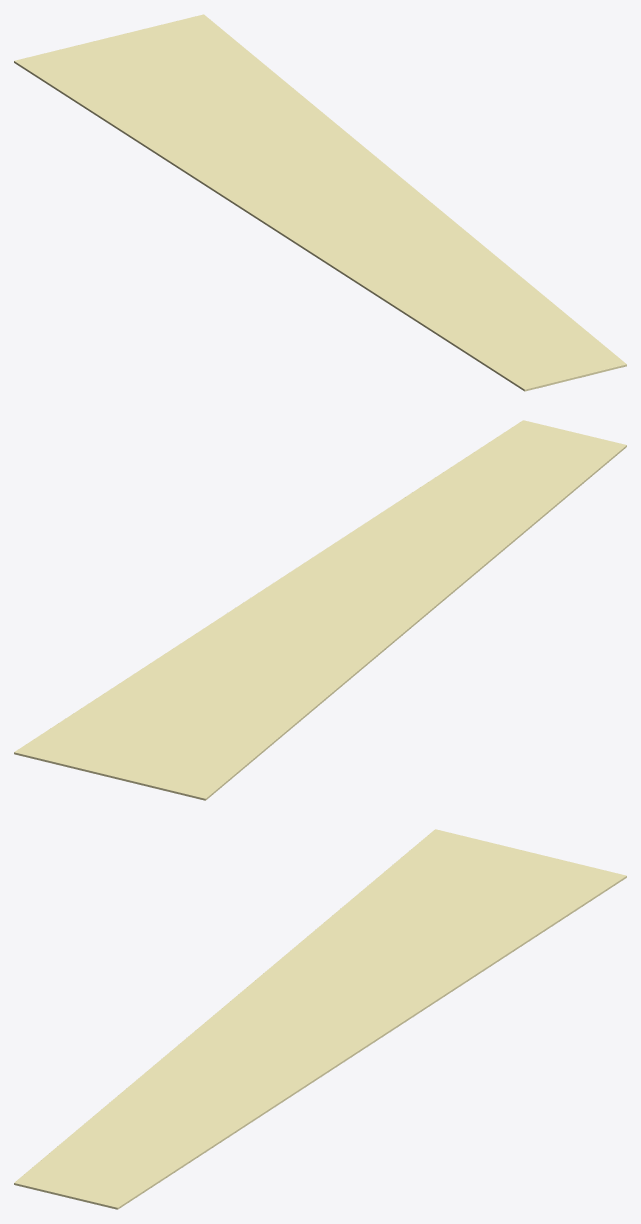
Rendered from pistateste1.glb.
3 renders of one model, top to bottom at view 1: azimuth 30°, elevation 25°; view 2: azimuth 150°, elevation 25°; view 3: azimuth 330°, elevation 25°, orthographic.
Visible parts, largest first — view 1: Shape; view 2: Shape; view 3: Shape.
Boxes of the visible parts, bbox=[...] form: Shape: bbox=[14, 14, 626, 391]; Shape: bbox=[14, 420, 626, 800]; Shape: bbox=[14, 829, 626, 1209].
Size of the model in its own units: 21.1 by 0.22 by 89.32.
